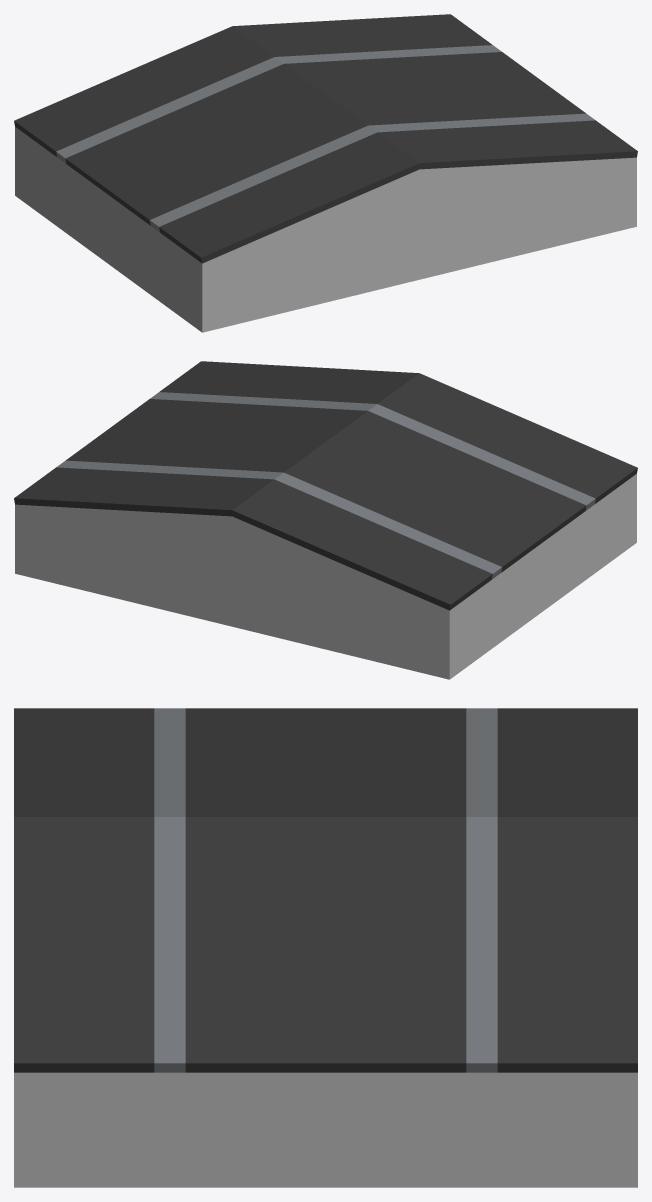
The model's file is LightStoneBuildingLargeLowStorage1.fbx.
The picture shows the model from 3 angles, top to bottom: view 1: azimuth 30°, elevation 25°; view 2: azimuth 150°, elevation 25°; view 3: azimuth 270°, elevation 25°; orthographic projection. The views are drawn at different scales.
Parts seen in each view (by area): view 1: LightStoneBuildingLargeLowStorage1; view 2: LightStoneBuildingLargeLowStorage1; view 3: LightStoneBuildingLargeLowStorage1.
Part boxes in pixels (x1,y1,x2,y2): LightStoneBuildingLargeLowStorage1: (14,14,637,332); LightStoneBuildingLargeLowStorage1: (14,361,637,679); LightStoneBuildingLargeLowStorage1: (14,708,637,1187).
Bounding box in the file's own units: 2215 × 565 × 1645.
3 materials, 3 textured.
